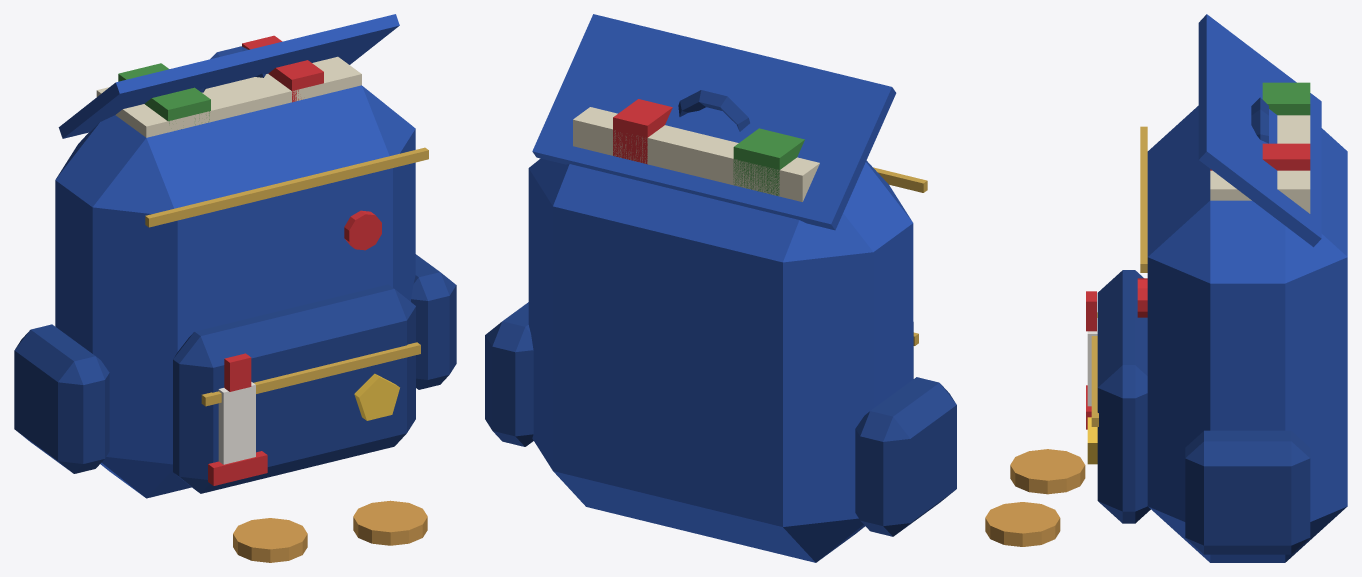
The model's file is backpack_open.glb.
3 renders of one model, left to right at view 1: azimuth 30°, elevation 25°; view 2: azimuth 150°, elevation 25°; view 3: azimuth 270°, elevation 25°, orthographic. The views are drawn at different scales.
Parts seen in each view (by area): view 1: backpack_open; view 2: backpack_open; view 3: backpack_open.
Part boxes in pixels (x1=…): backpack_open: x1=14, y1=14, x2=456, y2=562; backpack_open: x1=485, y1=14, x2=956, y2=562; backpack_open: x1=985, y1=14, x2=1347, y2=562.
Bounding box in the file's own units: 0.37 × 0.3774 × 0.29.
